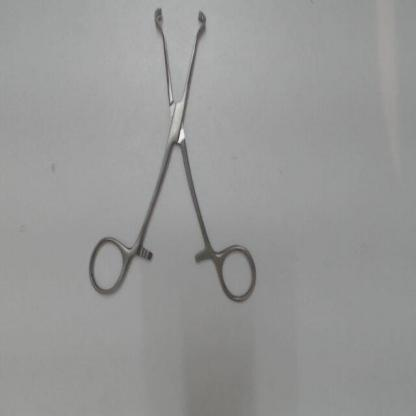Babcock Tissue Forceps: (83, 3, 263, 307)
